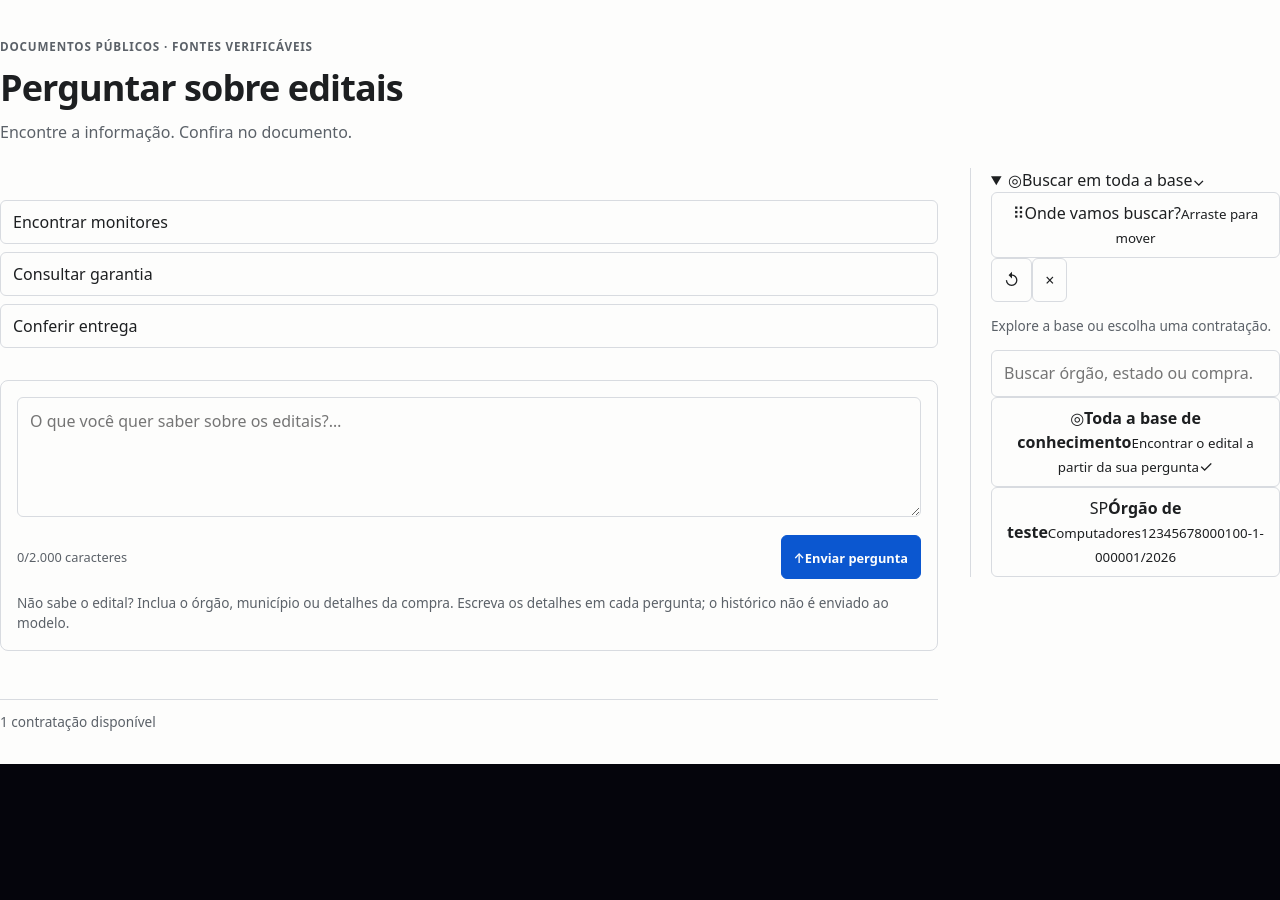
Test: filtra o seletor, escolhe escopo sem envio e fecha por Escape
expect the text "1 contratação disponível" is shown: met, box x1=0 y1=712 x2=156 y2=731
In the search field named "Filtrar editais": (1136, 373) x1=991 y1=350 x2=1279 y2=397, type "nao existe"
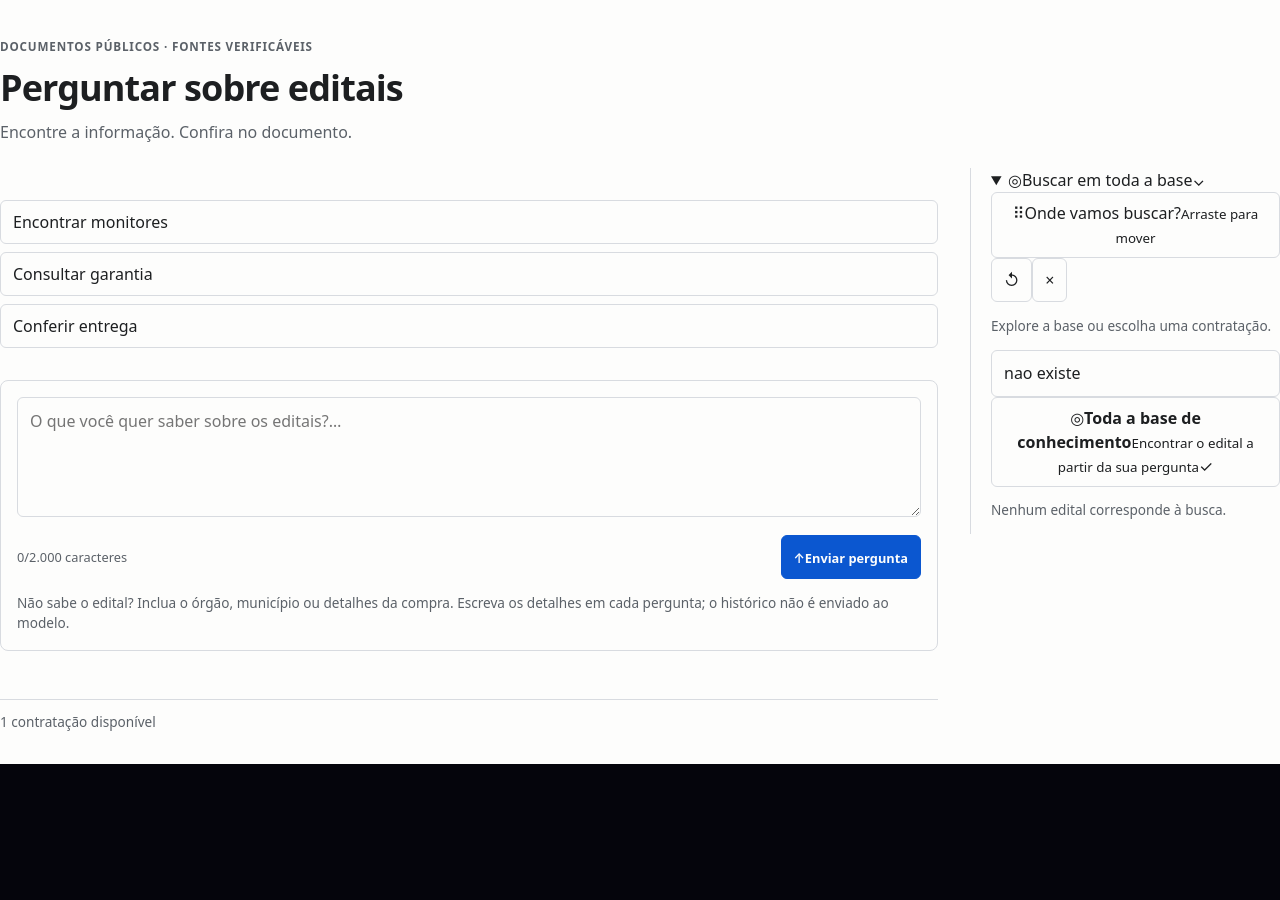
expect the text "Nenhum edital corresponde à busca." is shown: met, box x1=991 y1=500 x2=1226 y2=519
Replace the text in the search field named "Filtrar editais" with "orgao": (1136, 373) x1=991 y1=350 x2=1279 y2=397
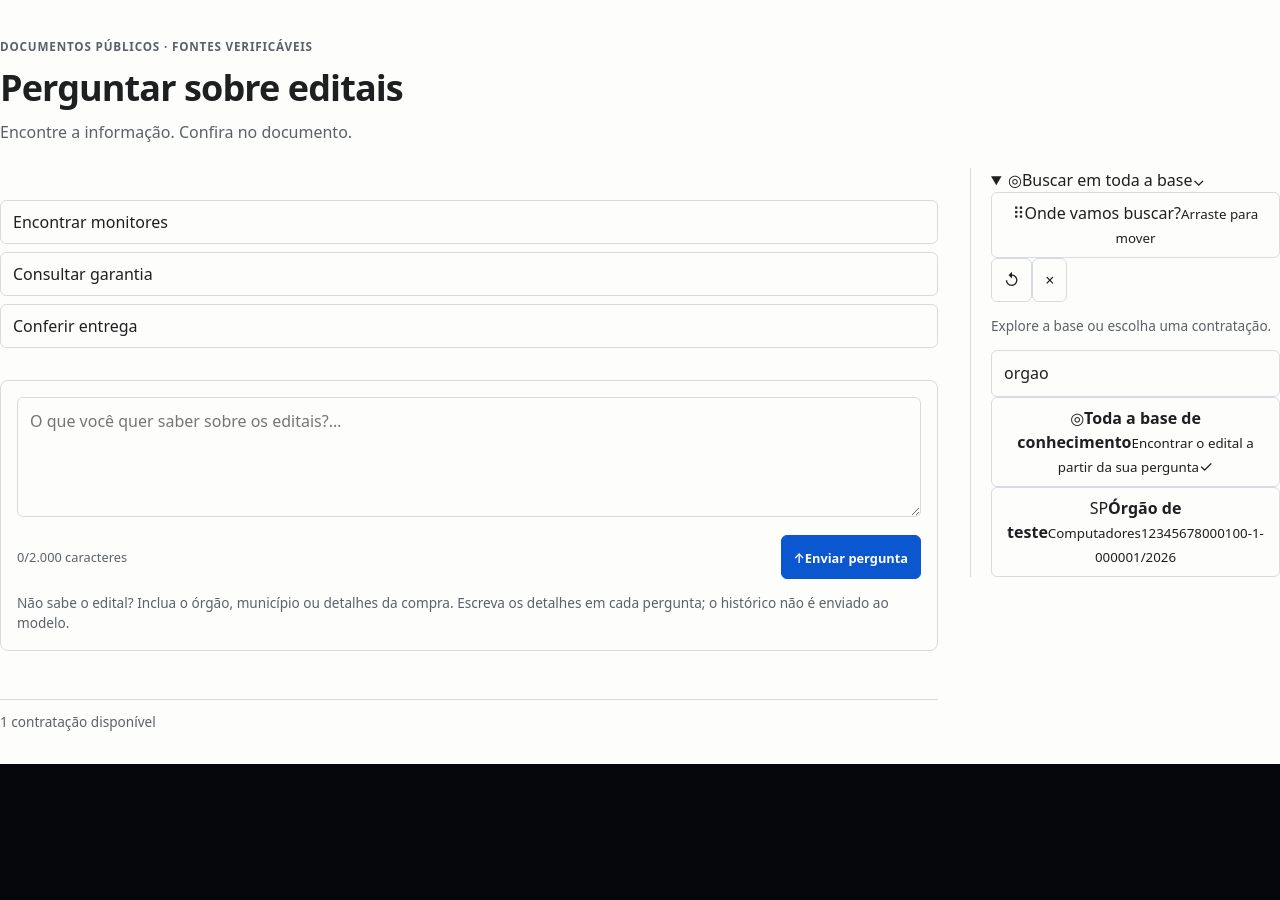
Click the button that starts with "Órgão de teste": (1136, 532) x1=991 y1=487 x2=1279 y2=577
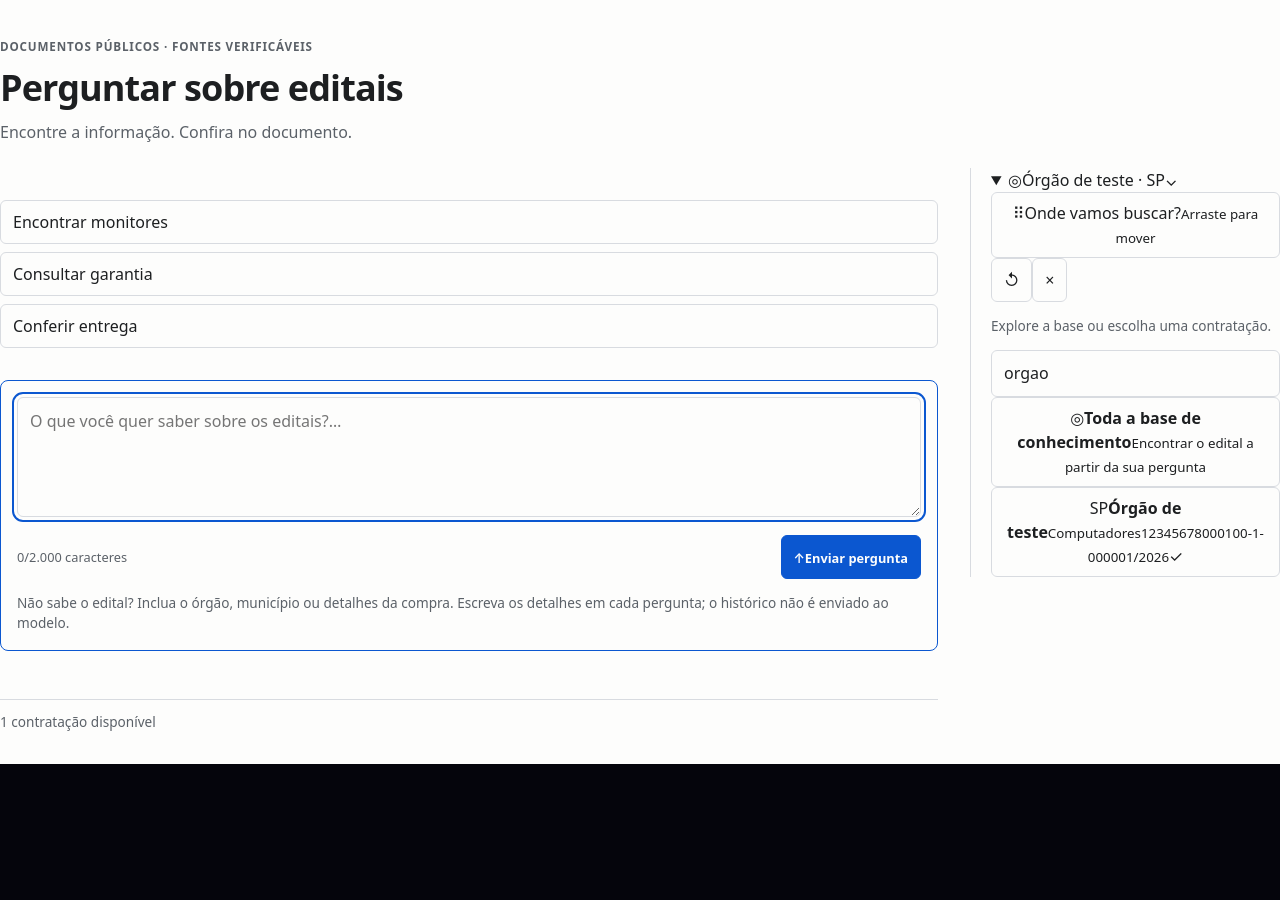
Press Escape in the search field named "Filtrar editais", box x1=991 y1=350 x2=1279 y2=397
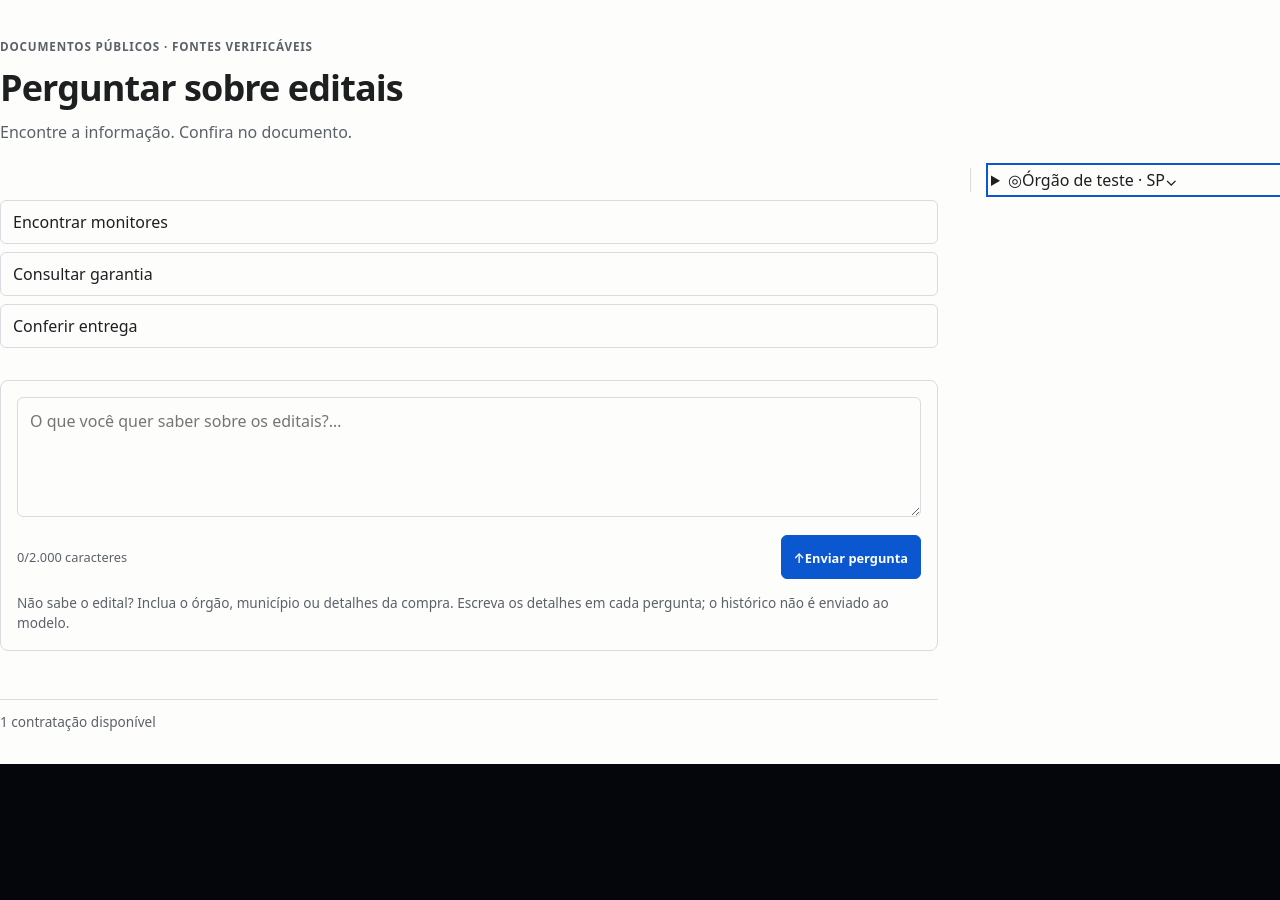
In the text box named "Sua pergunta": (469, 457) x1=17 y1=397 x2=921 y2=517, type "Qual garantia?"
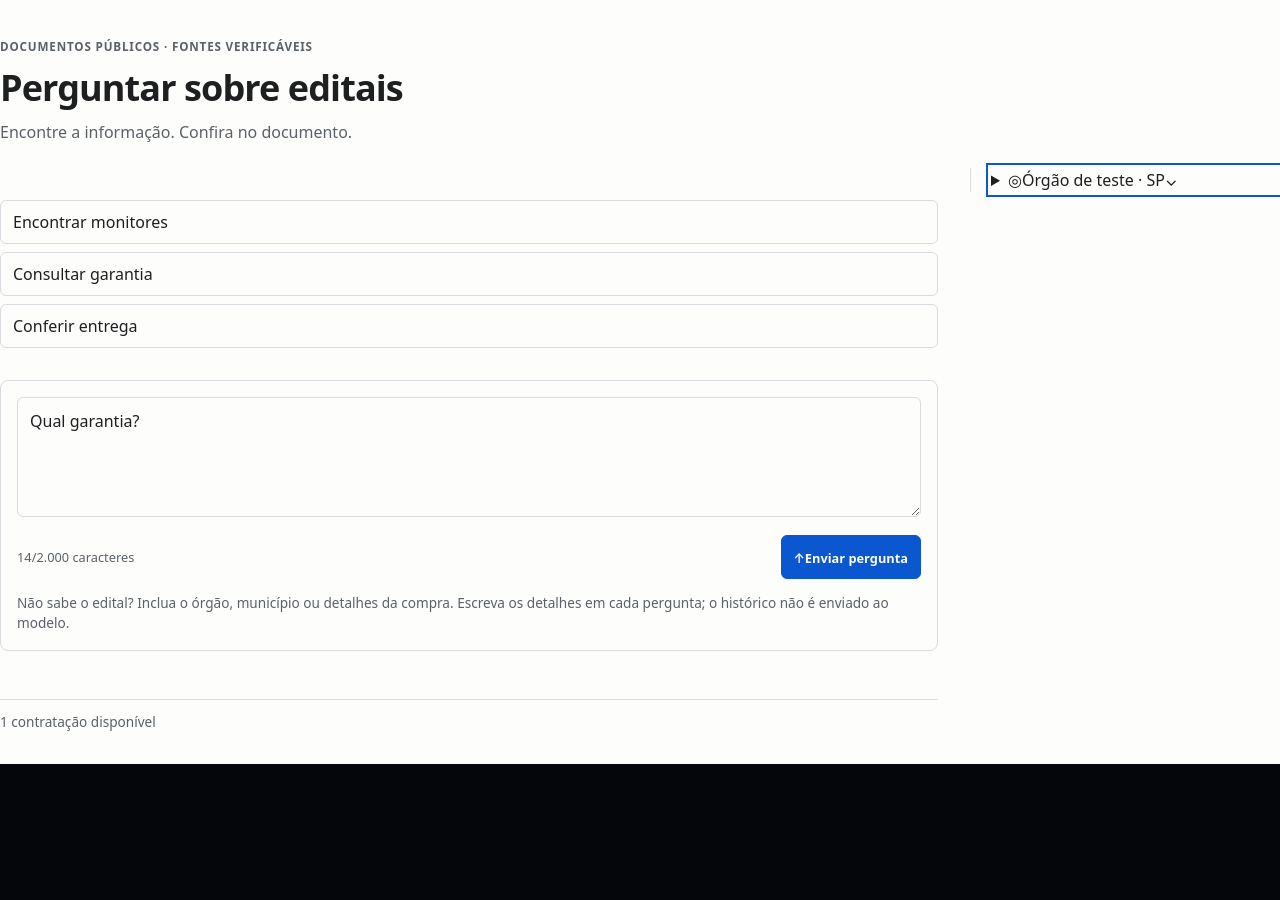
Click the button "↑Enviar pergunta": (851, 557) x1=780 y1=535 x2=921 y2=579
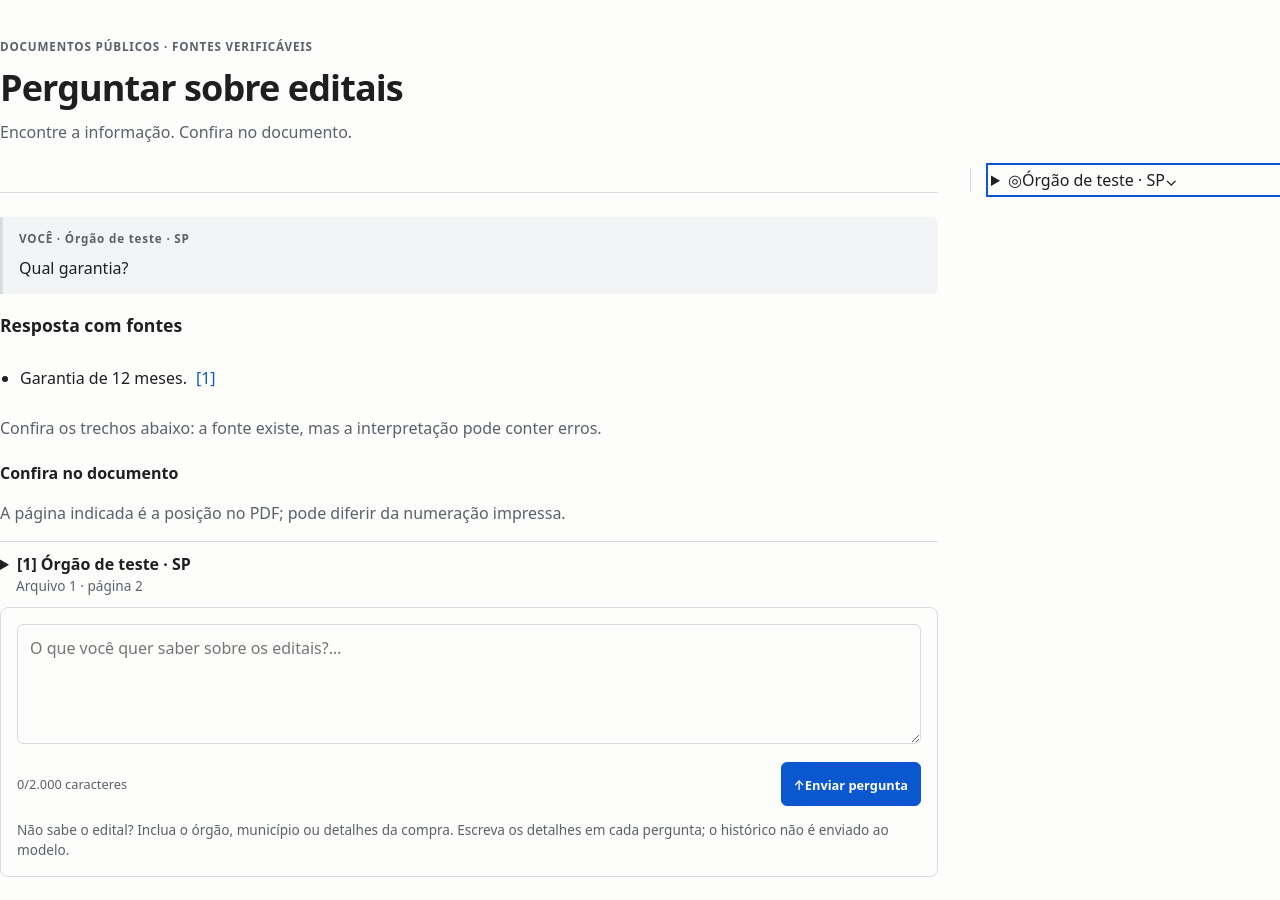
expect the heading "Resposta com fontes" is shown: met, box x1=0 y1=313 x2=182 y2=337
